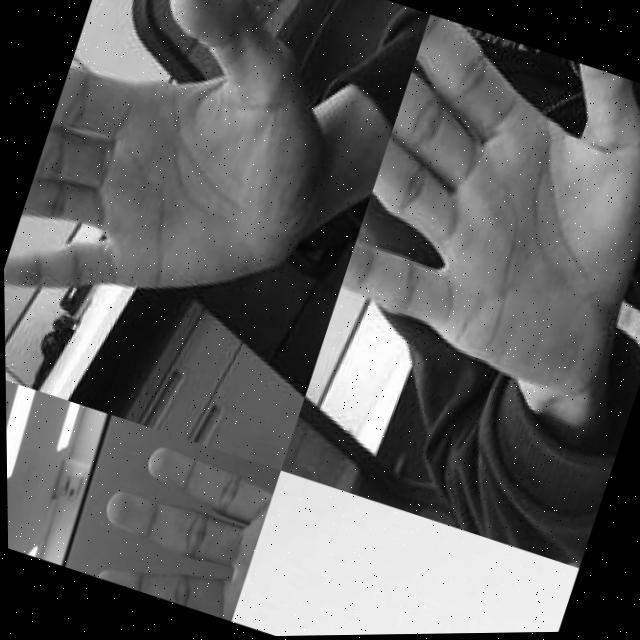no-gloves: (0, 0, 374, 378), (325, 12, 640, 410), (77, 418, 280, 624)
